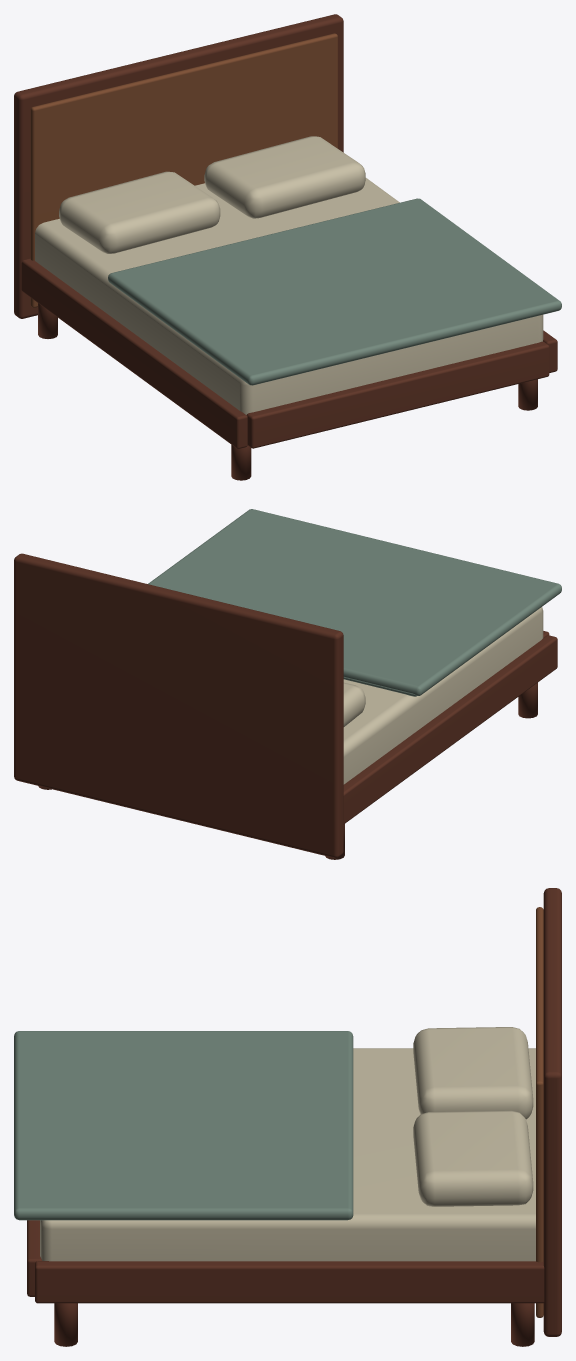
File: bed.glb
The picture shows the model from 3 angles, top to bottom: view 1: azimuth 30°, elevation 25°; view 2: azimuth 150°, elevation 25°; view 3: azimuth 270°, elevation 25°; orthographic projection. The views are drawn at different scales.
Parts seen in each view (by area): view 1: bed__Cotton_border, bed__Old_cotton, bed__Dark_mahogany, bed__Mahogany_edges; view 2: bed__Dark_mahogany, bed__Cotton_border, bed__Old_cotton; view 3: bed__Cotton_border, bed__Old_cotton, bed__Dark_mahogany, bed__Mahogany_edges.
Part boxes in pixels (x1,y1,x2,y2): bed__Cotton_border: (108, 198, 561, 385); bed__Old_cotton: (35, 136, 543, 414); bed__Dark_mahogany: (14, 14, 557, 480); bed__Mahogany_edges: (30, 33, 337, 307); bed__Dark_mahogany: (14, 553, 557, 859); bed__Cotton_border: (148, 509, 561, 696); bed__Old_cotton: (343, 607, 543, 784); bed__Cotton_border: (14, 1031, 353, 1220); bed__Old_cotton: (40, 1027, 535, 1261); bed__Dark_mahogany: (27, 888, 561, 1346); bed__Mahogany_edges: (536, 907, 543, 1317).
Size of the model in its own units: 1.7 by 1.18 by 2.1.
